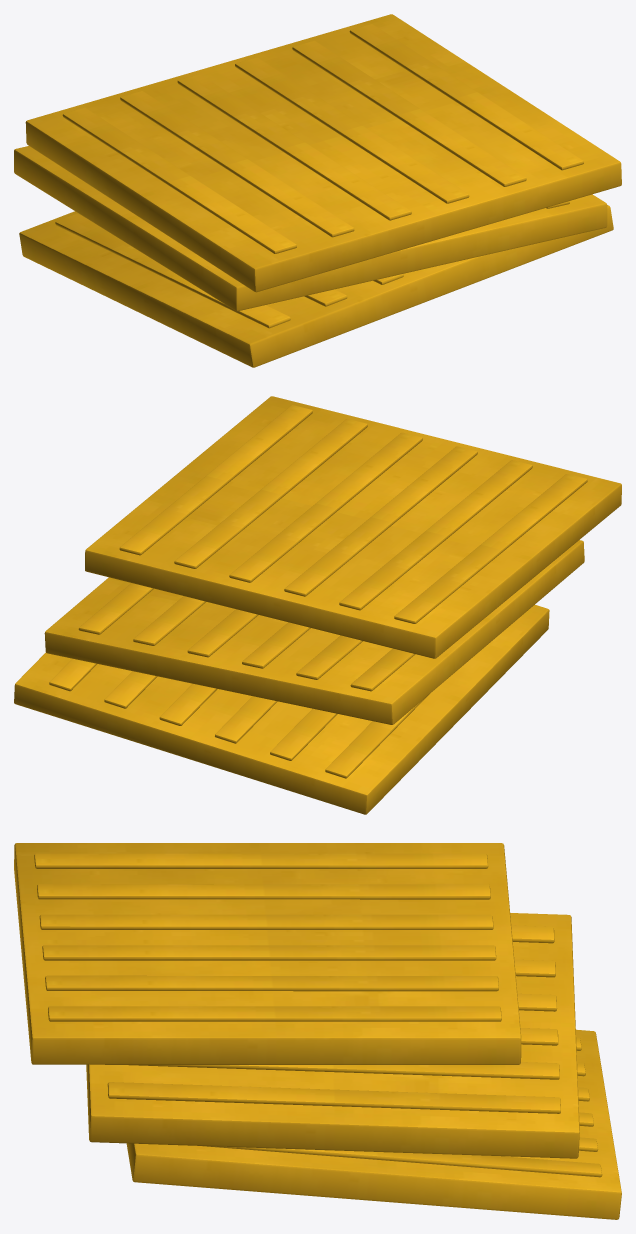
File: PIS-TAT-002_anim.glb
3 views of the same model, one above another, from view 1: azimuth 30°, elevation 25°; view 2: azimuth 150°, elevation 25°; view 3: azimuth 270°, elevation 25° (orthographic). The views are drawn at different scales.
Parts seen in each view (by area): view 1: PIS-TAT-002_anim2, PIS-TAT-002_anim0, PIS-TAT-002_anim1; view 2: PIS-TAT-002_anim2, PIS-TAT-002_anim0, PIS-TAT-002_anim1; view 3: PIS-TAT-002_anim2, PIS-TAT-002_anim1, PIS-TAT-002_anim0.
Part boxes in pixels (x1,y1,x2,y2): PIS-TAT-002_anim2: (25, 14, 621, 292); PIS-TAT-002_anim0: (19, 205, 613, 367); PIS-TAT-002_anim1: (14, 146, 607, 311); PIS-TAT-002_anim2: (85, 396, 621, 658); PIS-TAT-002_anim0: (14, 605, 549, 814); PIS-TAT-002_anim1: (44, 540, 584, 724); PIS-TAT-002_anim2: (14, 843, 521, 1064); PIS-TAT-002_anim1: (86, 913, 579, 1158); PIS-TAT-002_anim0: (126, 1029, 621, 1219).
Bounding box in the file's own units: 0.453 × 0.1968 × 0.4962.
1 material, 1 textured.
